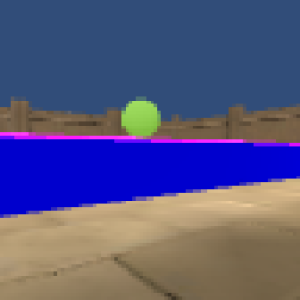goodGoal: (119, 97, 162, 138)
platform: (1, 144, 298, 215)
ramp: (1, 130, 249, 143)
